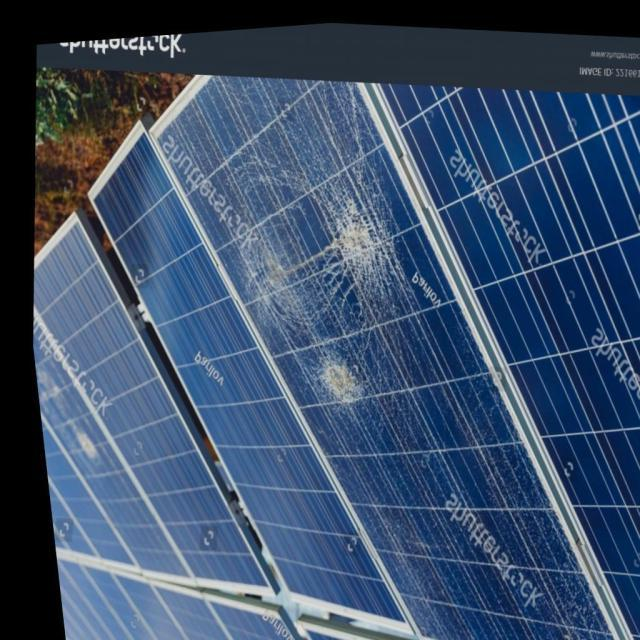cracked: (170, 71, 596, 640)
